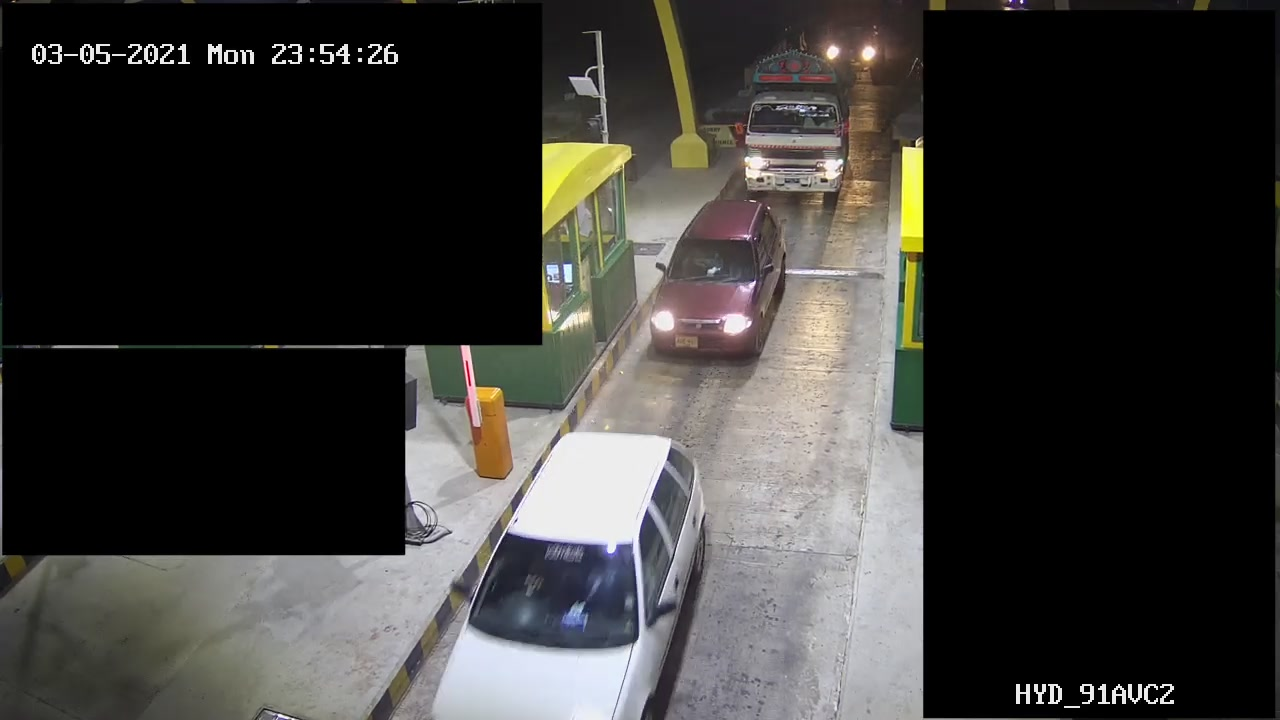F1: (644, 195, 790, 370)
